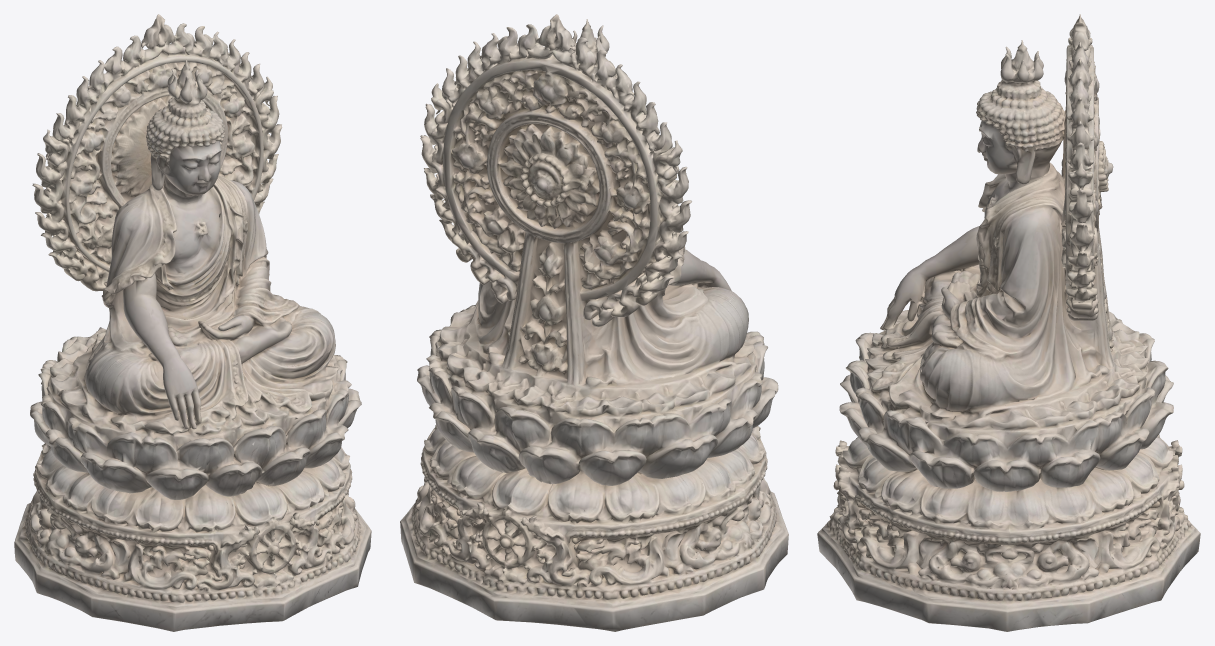
The picture shows the model from 3 angles, left to right: view 1: azimuth 30°, elevation 25°; view 2: azimuth 150°, elevation 25°; view 3: azimuth 270°, elevation 25°; orthographic projection. The views are drawn at different scales.
Visible parts, largest first — view 1: four-heavenly-kings-01; view 2: four-heavenly-kings-01; view 3: four-heavenly-kings-01.
Part boxes in pixels (x1,y1,x2,y2): four-heavenly-kings-01: (14,14,371,631); four-heavenly-kings-01: (400,14,788,631); four-heavenly-kings-01: (817,14,1200,631).
Bounding box in the file's own units: 0.6322 × 1 × 0.644.
1 material, 1 textured.
